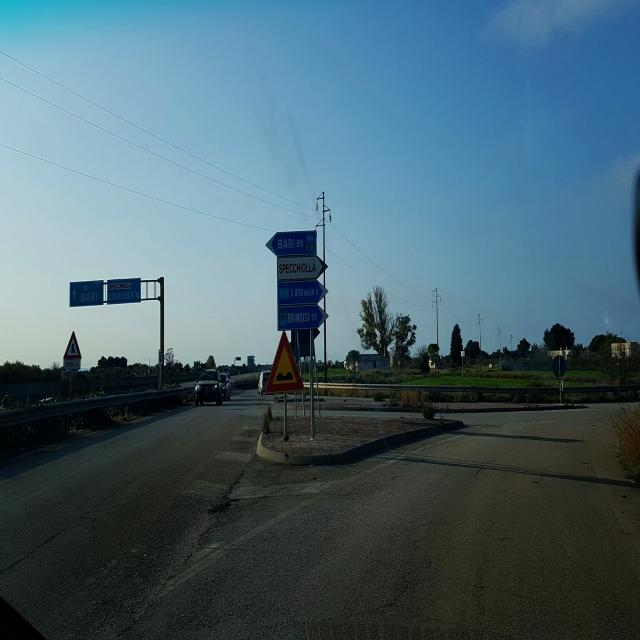car: (194, 370, 224, 406), (218, 373, 232, 400), (258, 372, 272, 395)
